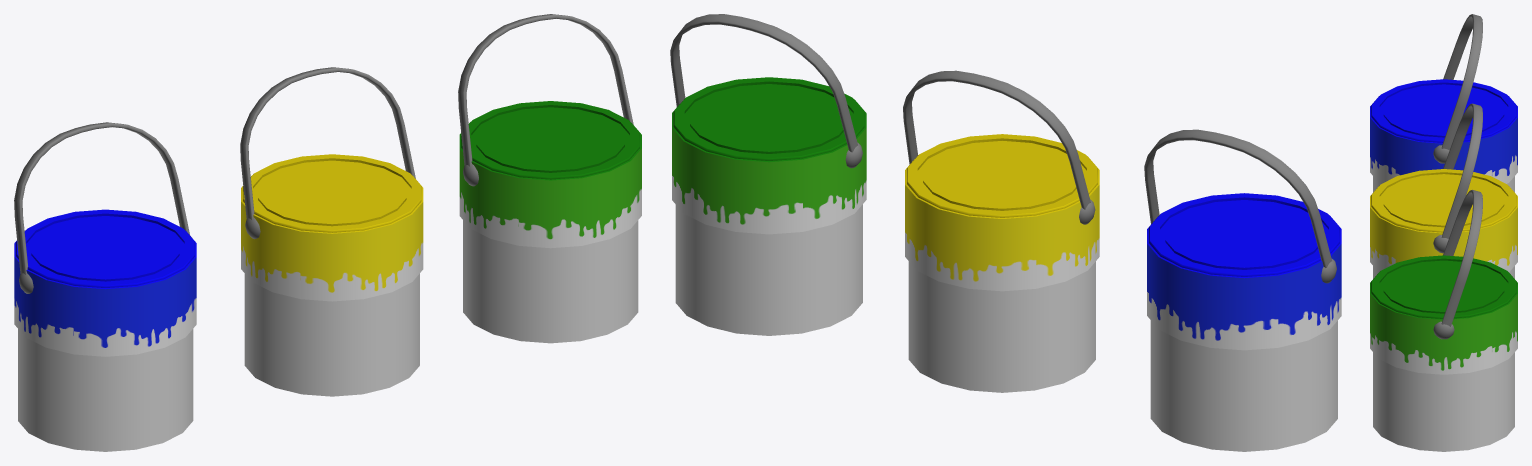
The model's file is PaintBuckets.fbx.
3 views of the same model, side by side, from view 1: azimuth 30°, elevation 25°; view 2: azimuth 150°, elevation 25°; view 3: azimuth 270°, elevation 25° (orthographic). The views are drawn at different scales.
Visible parts, largest first — view 1: Cylinder005, Cylinder004, Cylinder003; view 2: Cylinder005, Cylinder003, Cylinder004; view 3: Cylinder003, Cylinder005, Cylinder004.
Boxes of the visible parts, left/top/right/bottom form: Cylinder005: left=14, top=122, right=196, bottom=451; Cylinder004: left=240, top=67, right=423, bottom=396; Cylinder003: left=458, top=14, right=641, bottom=343; Cylinder005: left=1144, top=129, right=1341, bottom=451; Cylinder003: left=670, top=14, right=866, bottom=335; Cylinder004: left=903, top=70, right=1099, bottom=392; Cylinder003: left=1370, top=189, right=1517, bottom=451; Cylinder005: left=1370, top=14, right=1517, bottom=192; Cylinder004: left=1370, top=103, right=1517, bottom=278.
Size of the model in its own units: 79.7 by 33.85 by 20.47.
8 materials, 3 textured.
